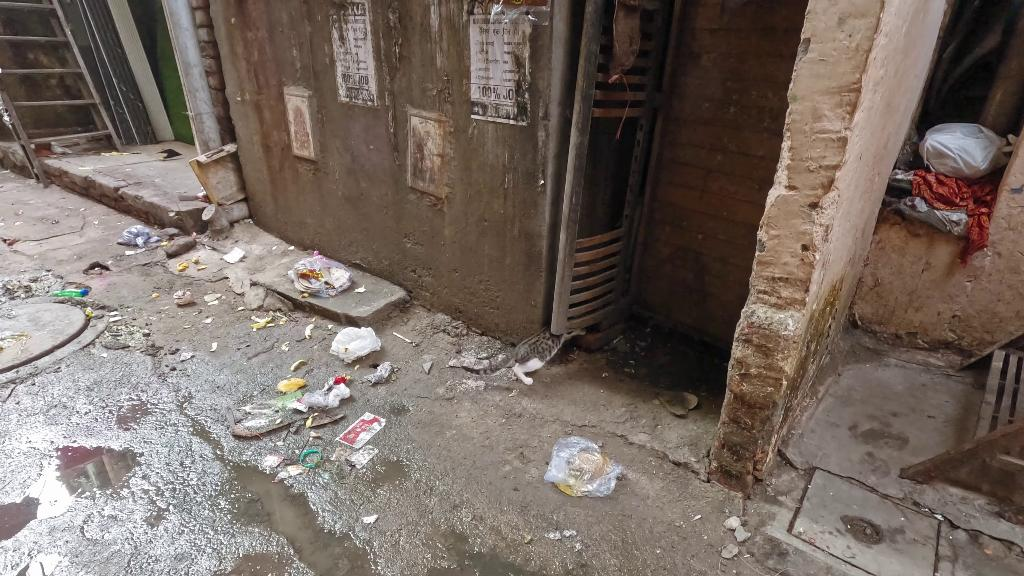garbage: (537, 433, 625, 501), (268, 367, 352, 416), (285, 241, 353, 301), (320, 323, 388, 367), (343, 404, 389, 453), (113, 219, 157, 253), (248, 309, 286, 333), (173, 287, 199, 315), (49, 284, 89, 301), (180, 259, 203, 275)
